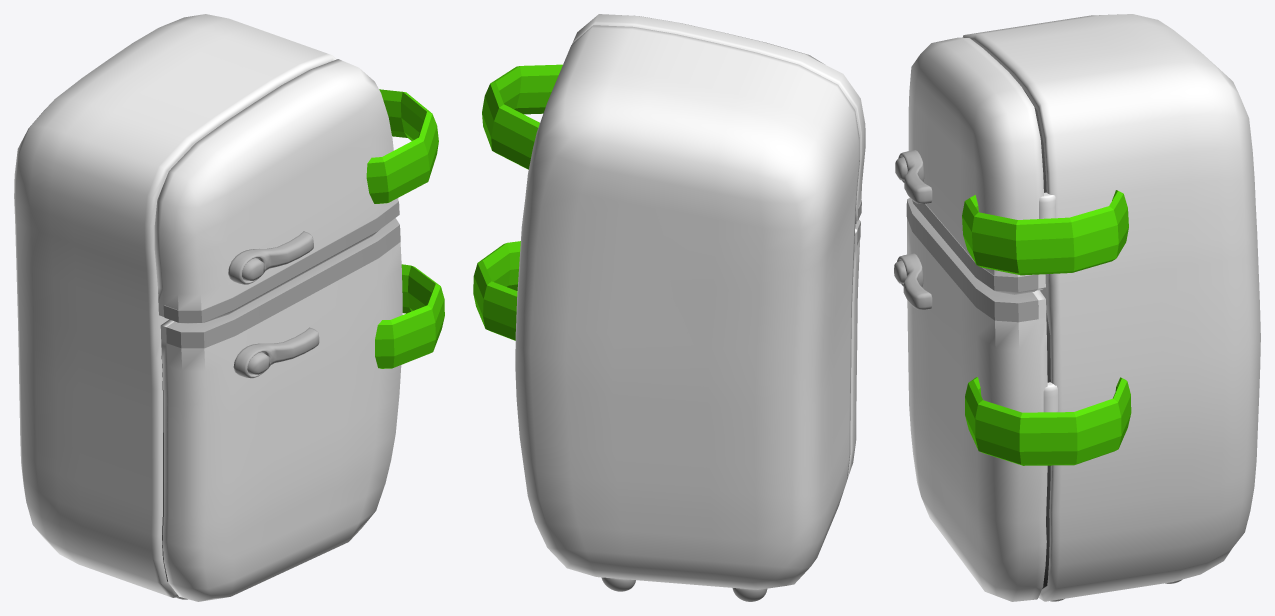
File: fridge_door_close.fbx
The picture shows the model from 3 angles, left to right: view 1: azimuth 30°, elevation 25°; view 2: azimuth 150°, elevation 25°; view 3: azimuth 270°, elevation 25°; orthographic projection. The views are drawn at different scales.
Visible parts, largest first — view 1: Body, polySurface40, polySurface44, Cntrl_up, Cntrl_dwn; view 2: Body, Cntrl_up, polySurface44, Cntrl_dwn, polySurface40; view 3: Body, polySurface40, polySurface44, Cntrl_up, Cntrl_dwn.
Part boxes in pixels (x1,y1,x2,y2): Body: (14,14,336,597); polySurface40: (160,218,402,601); polySurface44: (154,59,399,323); Cntrl_up: (366,89,438,203); Cntrl_dwn: (375,264,444,368); Body: (515,25,859,589); Cntrl_up: (482,64,562,169); polySurface44: (572,14,865,223); Cntrl_dwn: (473,241,520,340); polySurface40: (847,219,860,477); Body: (962,14,1260,601); polySurface40: (894,198,1057,601); polySurface44: (895,37,1055,294); Cntrl_up: (962,190,1128,275); Cntrl_dwn: (965,377,1131,465).
Size of the model in its own units: 6.45 by 8.19 by 5.18.
